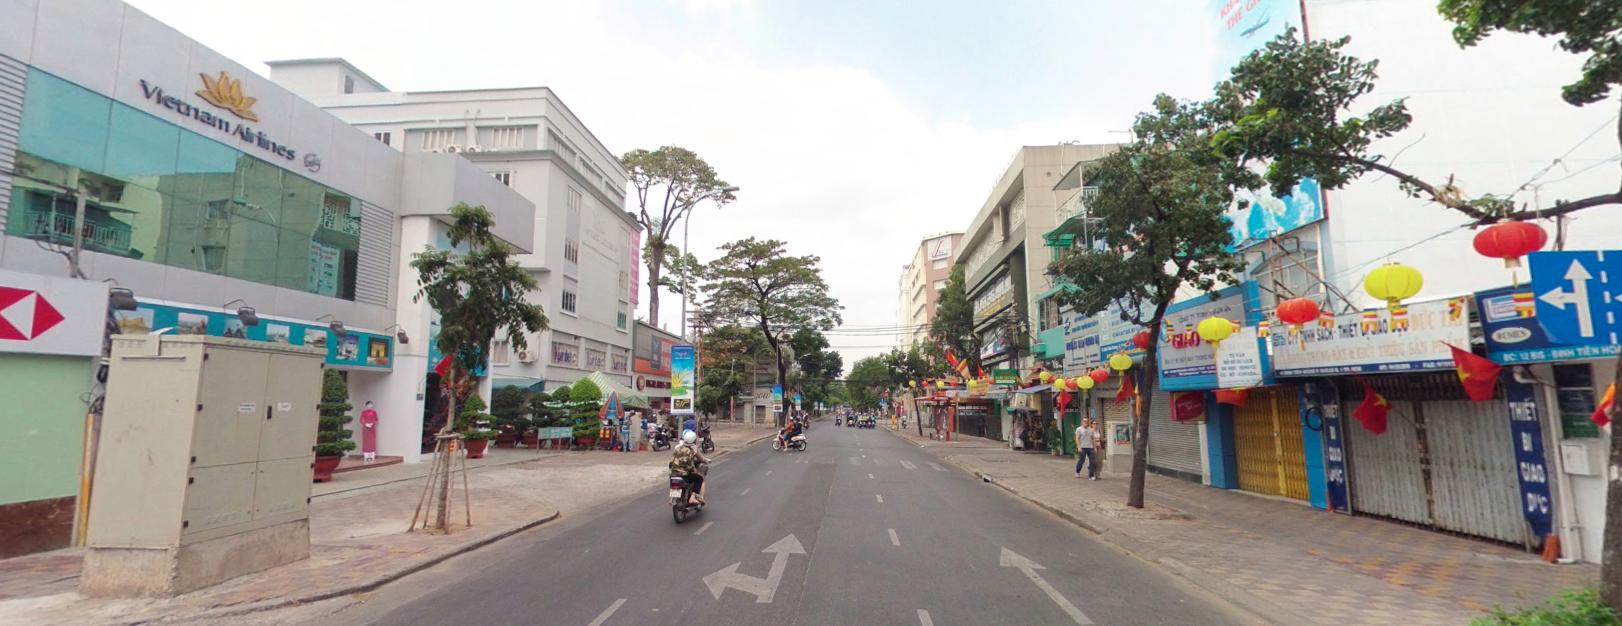Cam re: (891, 399, 897, 405)
